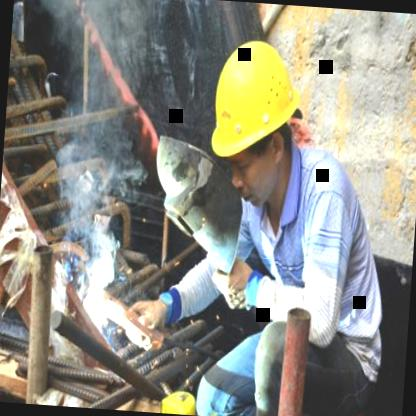helmet: (196, 39, 304, 210)
